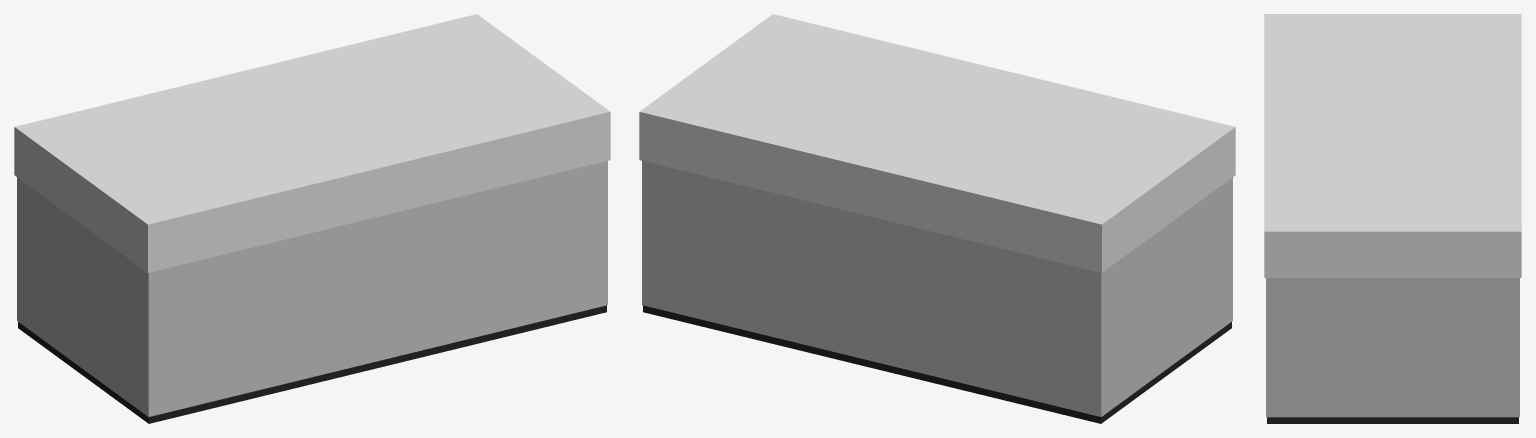
The model's file is Shelves_ElectronicTable_1.fbx.
3 views of the same model, side by side, from view 1: azimuth 30°, elevation 25°; view 2: azimuth 150°, elevation 25°; view 3: azimuth 270°, elevation 25° (orthographic). The views are drawn at different scales.
Parts seen in each view (by area): view 1: Shelves_ElectronicTable_1; view 2: Shelves_ElectronicTable_1; view 3: Shelves_ElectronicTable_1.
Boxes of the visible parts, x1=… form: Shelves_ElectronicTable_1: x1=14, y1=14, x2=610, y2=423; Shelves_ElectronicTable_1: x1=639, y1=14, x2=1235, y2=423; Shelves_ElectronicTable_1: x1=1264, y1=14, x2=1521, y2=423.
Size of the model in its own units: 200 by 83 by 100.
